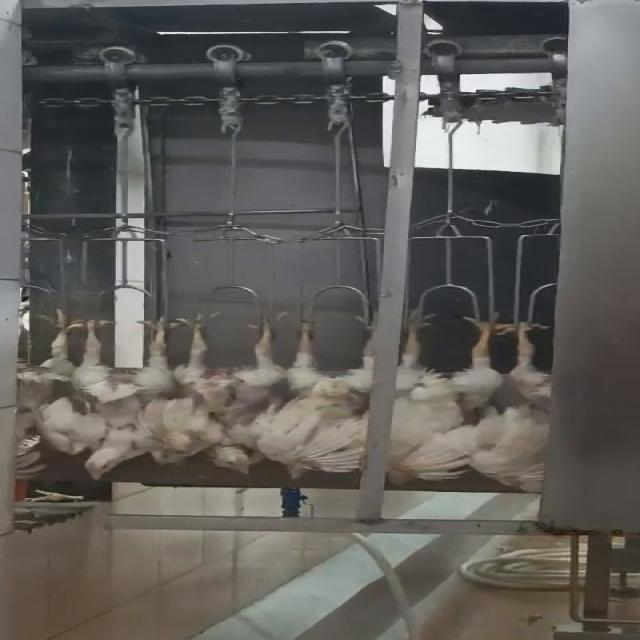chicken: (146, 304, 285, 480), (258, 308, 384, 480), (382, 306, 499, 489), (62, 306, 179, 483), (0, 309, 99, 478), (482, 312, 557, 496)
